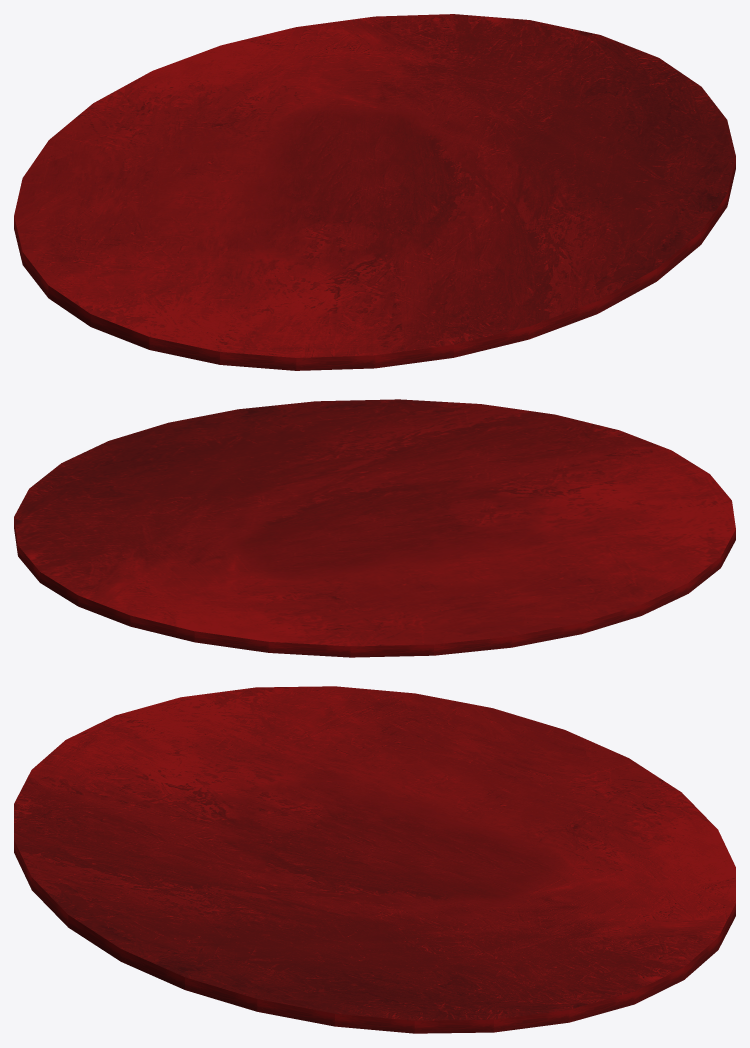
The model's file is rouge5.FBX.
3 views of the same model, one above another, from view 1: azimuth 30°, elevation 25°; view 2: azimuth 150°, elevation 25°; view 3: azimuth 270°, elevation 25° (orthographic). The views are drawn at different scales.
Visible parts, largest first — view 1: Cercle001; view 2: Cercle001; view 3: Cercle001.
Part boxes in pixels (x1,y1,x2,y2): Cercle001: (14, 14, 735, 370); Cercle001: (14, 399, 735, 657); Cercle001: (14, 686, 735, 1033).
Bounding box in the file's own units: 37.74 × 0.6757 × 34.42.
1 material, 1 textured.
